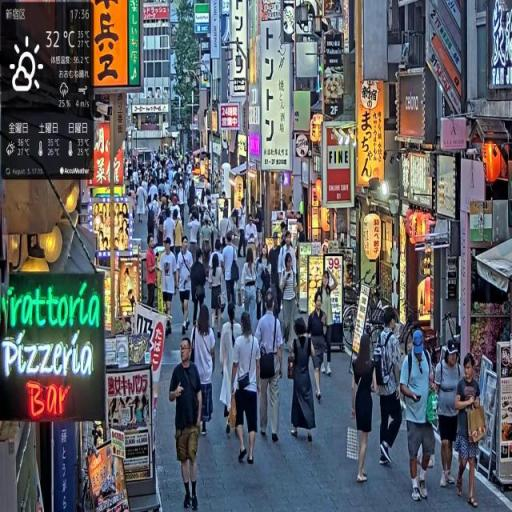person: (399, 325, 437, 506), (168, 335, 204, 512), (373, 306, 405, 471), (455, 356, 487, 512), (232, 312, 263, 468), (435, 337, 465, 491), (256, 291, 285, 445), (351, 332, 378, 488), (289, 316, 319, 447), (191, 304, 218, 440), (219, 303, 242, 440), (307, 294, 329, 407), (279, 256, 301, 353), (159, 238, 179, 336), (176, 237, 195, 334), (241, 248, 260, 339), (191, 244, 208, 333), (257, 247, 273, 324), (145, 237, 159, 312)
